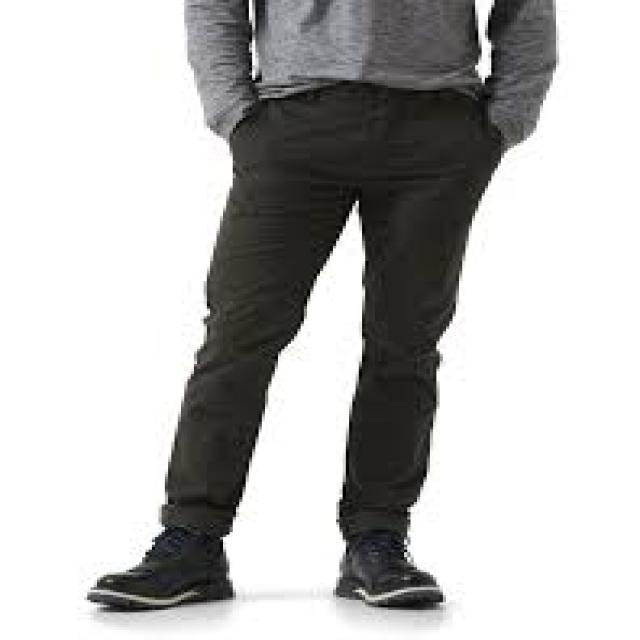pants: (154, 79, 507, 543)
